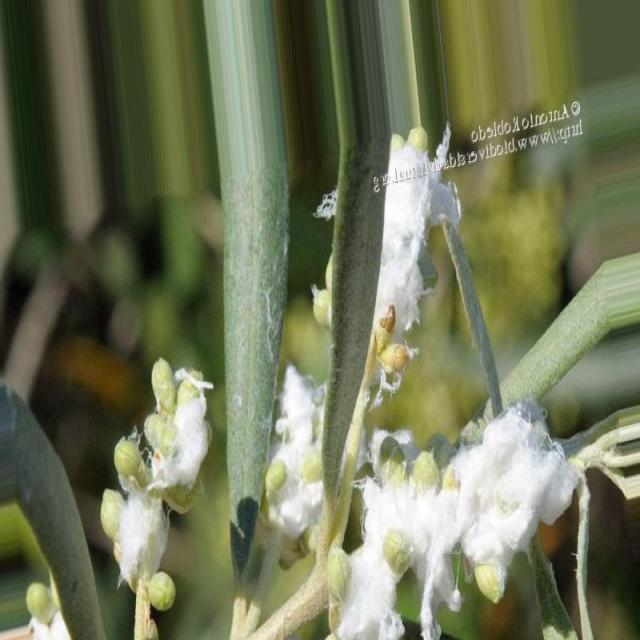Psyllid: (332, 401, 578, 638), (351, 123, 461, 429), (100, 358, 213, 638), (264, 365, 326, 559)
